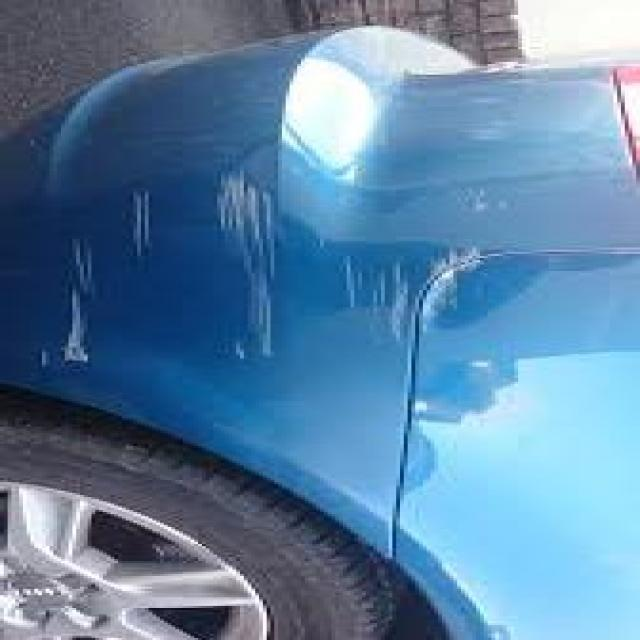scratch: (0, 154, 568, 392)
